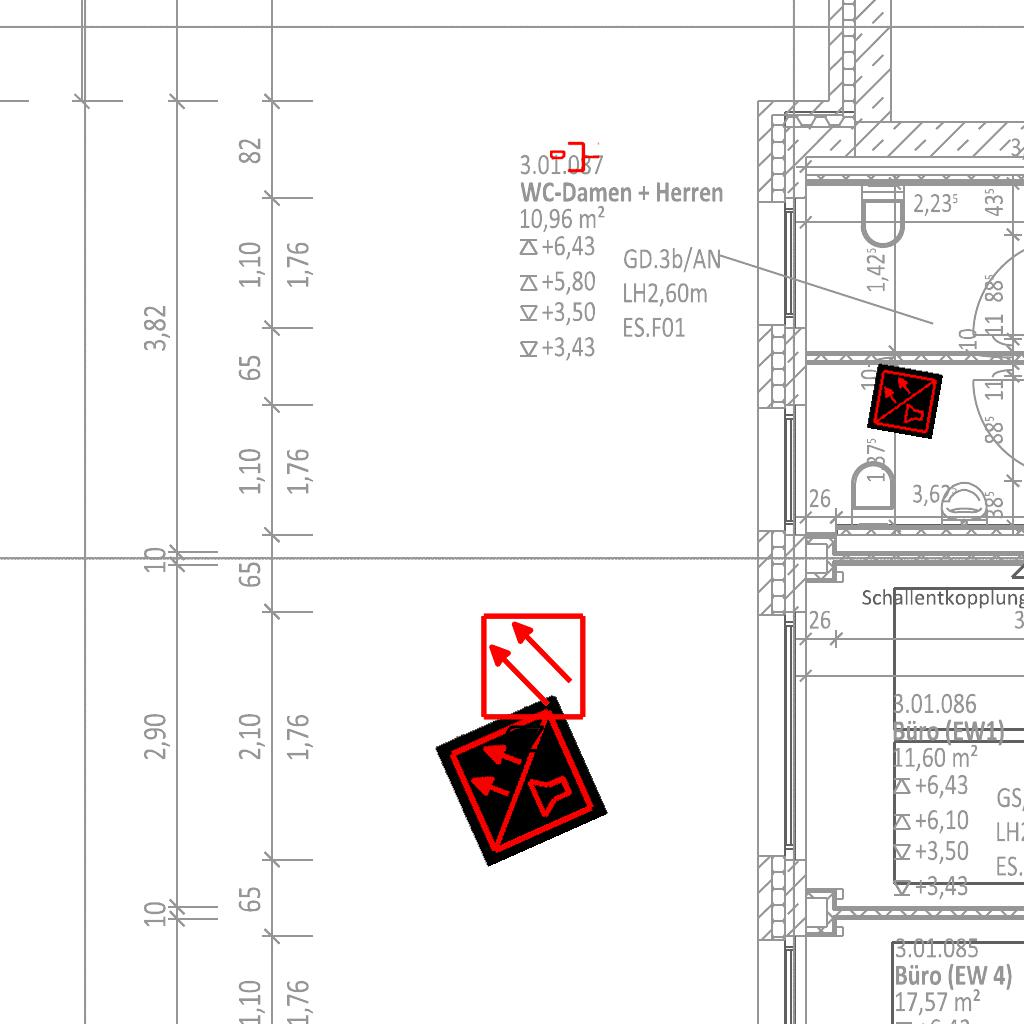Datenanschluss_einfach: (550, 140, 600, 174)
OKW_Multisensormelder_(Kombination_optischer_Rauch-Kahlenmonoxid_Waerme-Melder): (433, 692, 609, 868), (866, 362, 944, 440)
ZD_Melder_in_Zwischendecke_mit_Revisionsoeffnung_mind_40_x_40_cm: (478, 611, 592, 760)
